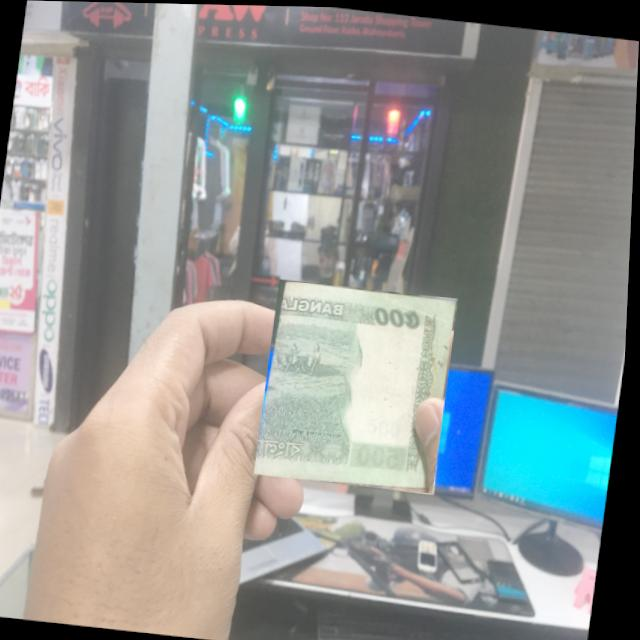Taka: (257, 277, 460, 492)
